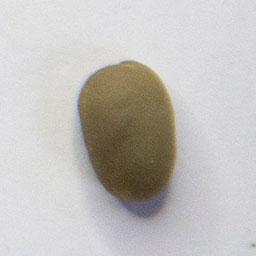peaberry: (74, 56, 179, 207)
